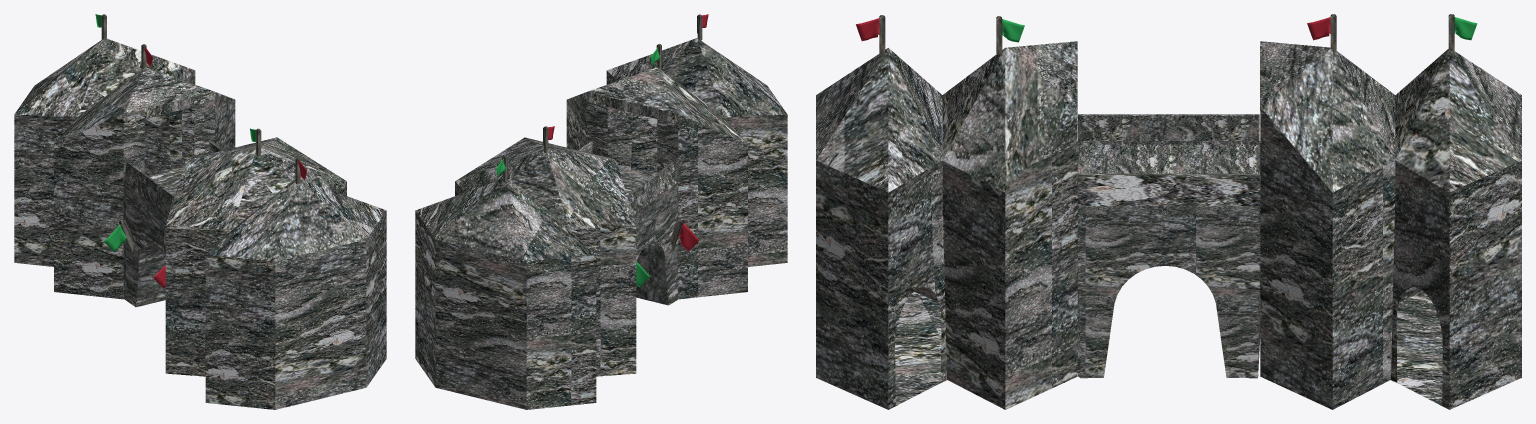
The model's file is come on baby light my fire.fbx.
3 renders of one model, left to right at view 1: azimuth 30°, elevation 25°; view 2: azimuth 150°, elevation 25°; view 3: azimuth 270°, elevation 25°, orthographic. The views are drawn at different scales.
Visible parts, largest first — view 1: Cube.011, Cube.001, Cube.010, Plane.003; view 2: Cube.011, Cube.001, Cube.010; view 3: Cube.011, Cube.001, Cube.009, Cube.010.
Boxes of the visible parts, <box> form: Cube.011: <box>14,38,386,409</box>; Cube.001: <box>123,92,214,307</box>; Cube.010: <box>124,161,174,214</box>; Plane.003: <box>104,224,126,252</box>; Cube.011: <box>415,38,787,409</box>; Cube.001: <box>587,92,678,305</box>; Cube.010: <box>627,161,677,215</box>; Cube.011: <box>816,41,1521,409</box>; Cube.001: <box>1077,46,1260,378</box>; Cube.009: <box>1078,173,1259,205</box>; Cube.010: <box>1078,114,1259,144</box>.
Size of the model in its own units: 298 by 355 by 686.
